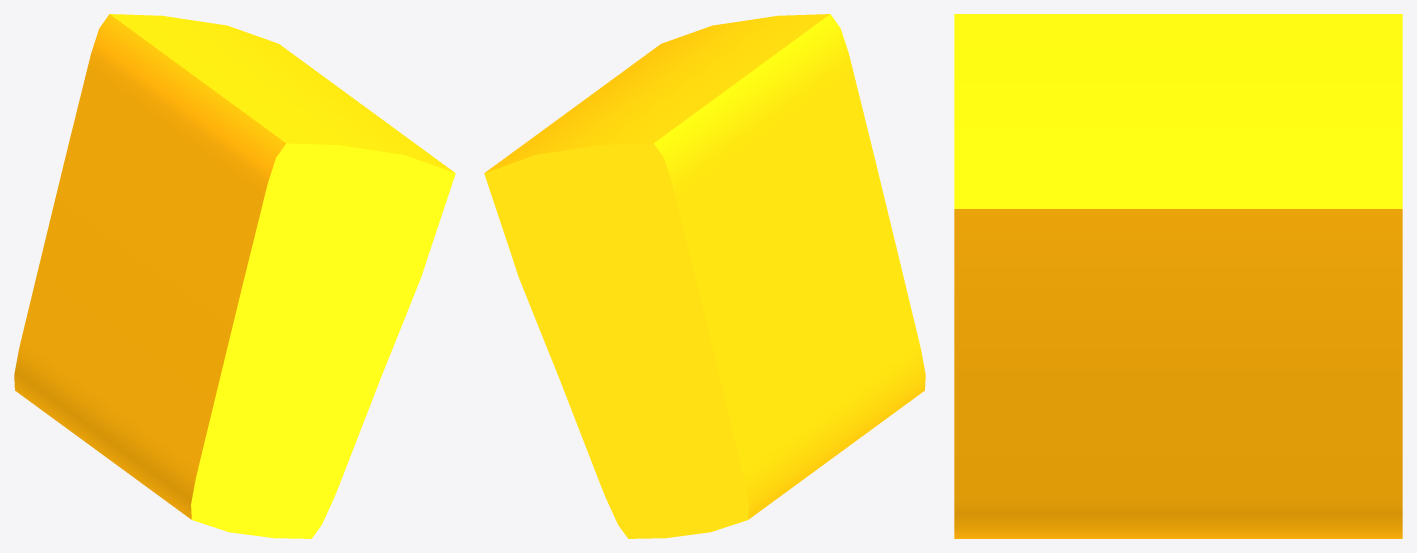
The model's file is symbol,_Zyzol_Yellow.glb.
3 views of the same model, side by side, from view 1: azimuth 30°, elevation 25°; view 2: azimuth 150°, elevation 25°; view 3: azimuth 270°, elevation 25° (orthographic). The views are drawn at different scales.
Visible parts, largest first — view 1: ,_Zyzol_Yellow; view 2: ,_Zyzol_Yellow; view 3: ,_Zyzol_Yellow.
Boxes of the visible parts, left/top/right/bottom form: ,_Zyzol_Yellow: left=14, top=14, right=455, bottom=538; ,_Zyzol_Yellow: left=484, top=14, right=925, bottom=538; ,_Zyzol_Yellow: left=954, top=14, right=1402, bottom=538.
Size of what is drawn, in the model's own units: 0.0389 by 0.0564 by 0.045.
Materials: 2 (2 with a texture image).
